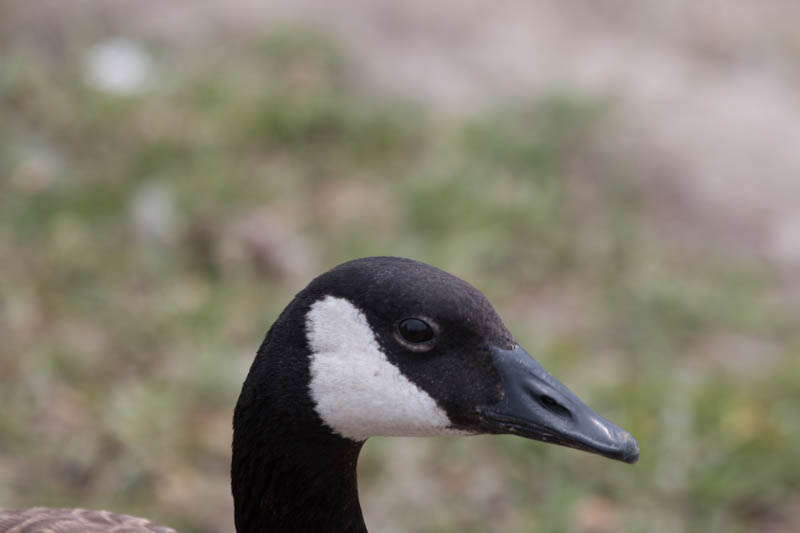goose-head: (233, 254, 640, 467)
